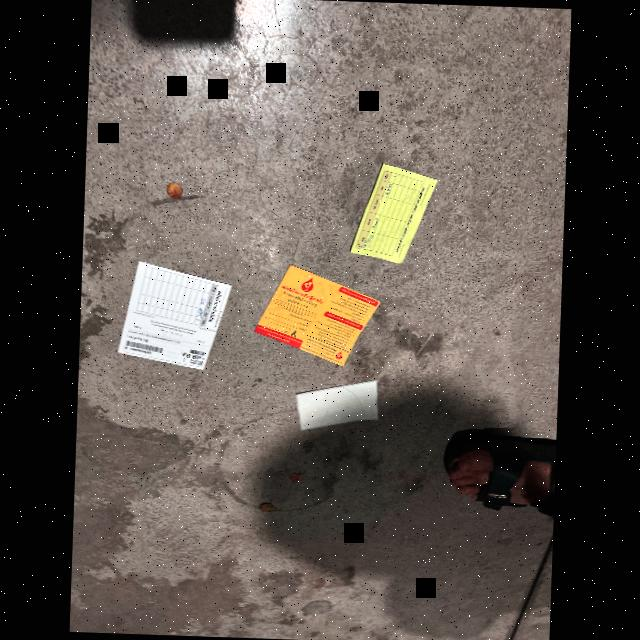scrap_paper: (109, 260, 238, 384), (258, 264, 380, 364), (337, 164, 442, 271), (282, 373, 396, 438)
